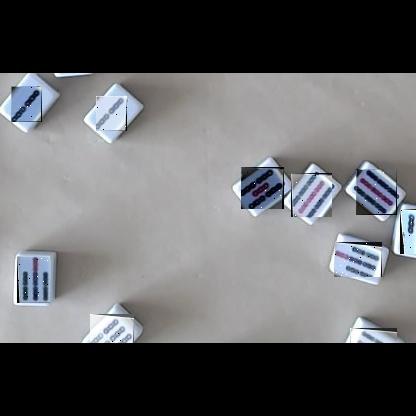2s: (11, 86, 42, 122), (96, 96, 127, 131)
3s: (400, 209, 416, 254)
5s: (241, 167, 284, 209)
6s: (90, 314, 134, 343)
7s: (334, 242, 382, 277), (17, 256, 50, 303)
9s: (356, 169, 397, 215), (291, 173, 332, 217), (350, 328, 397, 343)
